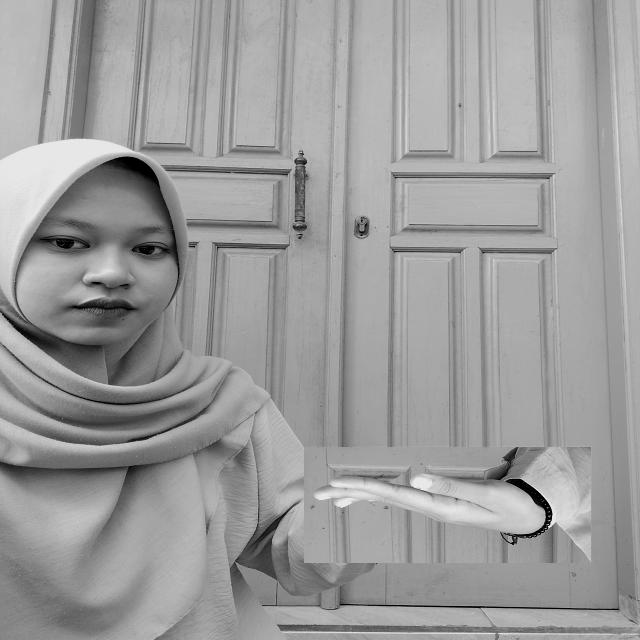adik: (304, 446, 592, 563)
